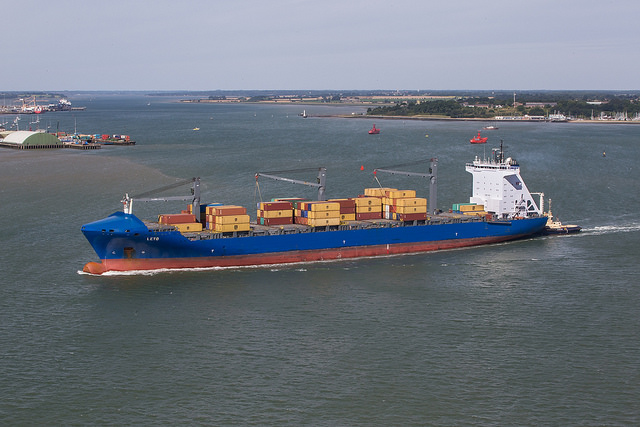boat: (367, 119, 382, 138), (466, 132, 488, 143), (481, 118, 499, 130), (190, 125, 202, 133)
container_ship: (78, 143, 544, 274)
tug_boat: (545, 200, 585, 233)
